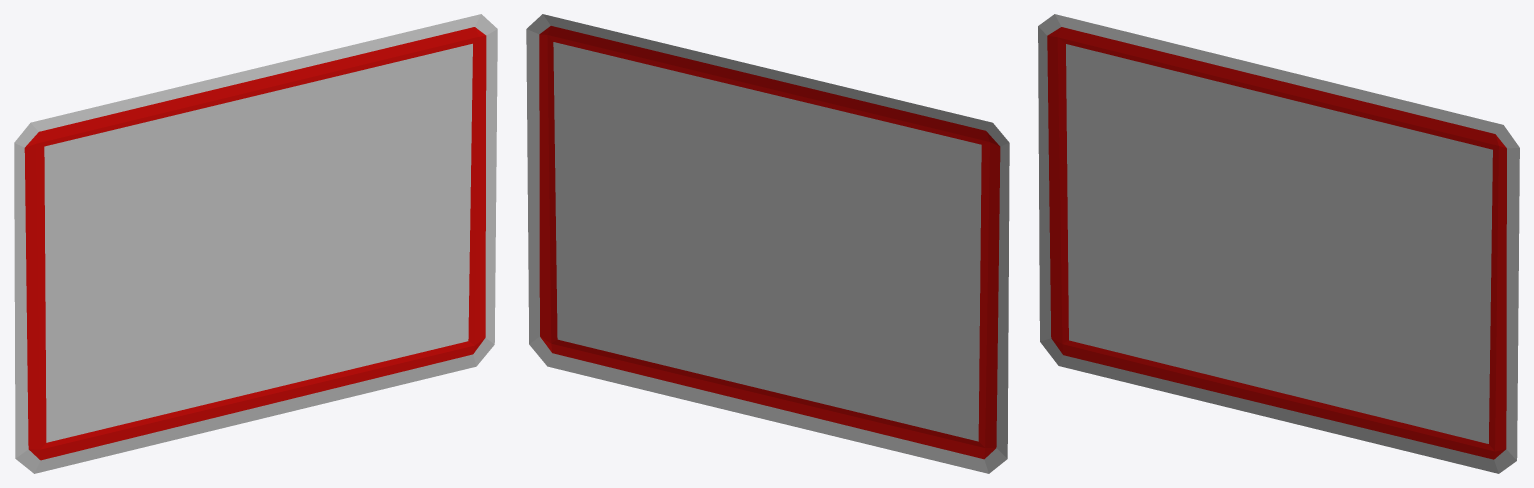
Rendered from ui_questMarker.glb.
3 views of the same model, side by side, from view 1: azimuth 30°, elevation 25°; view 2: azimuth 150°, elevation 25°; view 3: azimuth 330°, elevation 25° (orthographic).
Parts seen in each view (by area): view 1: Cylinder; view 2: Cylinder; view 3: Cylinder.
Boxes of the visible parts, x1=… form: Cylinder: x1=14, y1=14, x2=497, y2=473; Cylinder: x1=526, y1=14, x2=1009, y2=473; Cylinder: x1=1038, y1=14, x2=1519, y2=473.
Bounding box in the file's own units: 1.99 × 1.39 × 0.0109.
